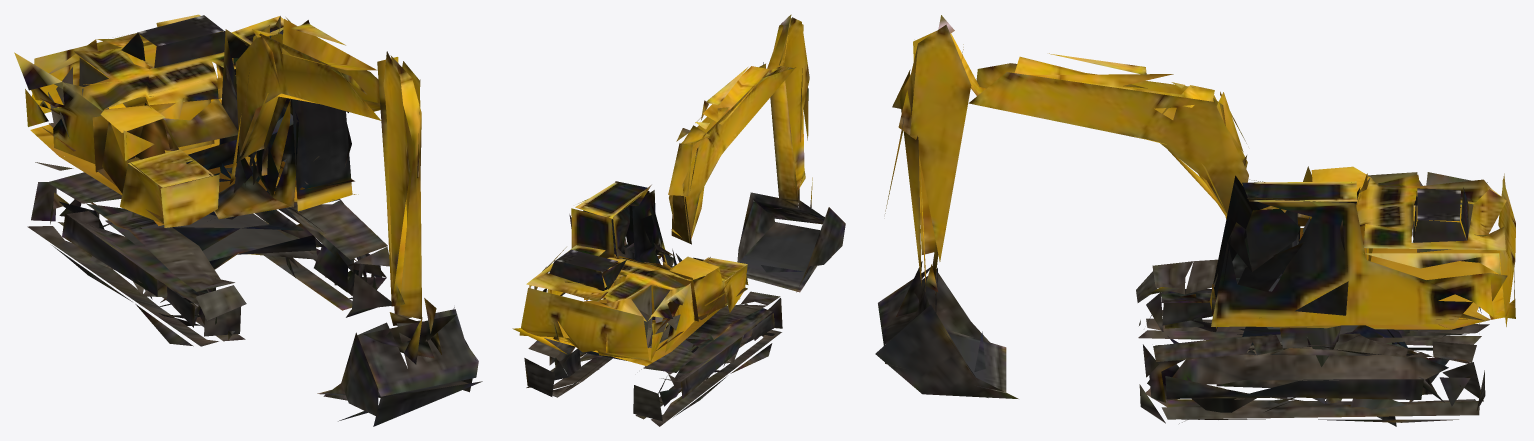
The model's file is steinbruch_bagger_lo.glb.
3 views of the same model, side by side, from view 1: azimuth 30°, elevation 25°; view 2: azimuth 150°, elevation 25°; view 3: azimuth 270°, elevation 25° (orthographic). The views are drawn at different scales.
Visible parts, largest first — view 1: Prop; view 2: Prop; view 3: Prop.
Boxes of the visible parts, x1,y1,x2,y2 form: Prop: (14, 14, 482, 426); Prop: (512, 14, 845, 426); Prop: (875, 15, 1515, 426).
Size of the model in its own units: 0.6116 by 1.04 by 1.63.
1 material, 1 textured.
